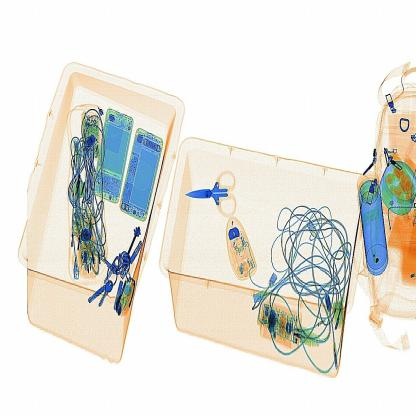gun: (187, 173, 237, 216)
